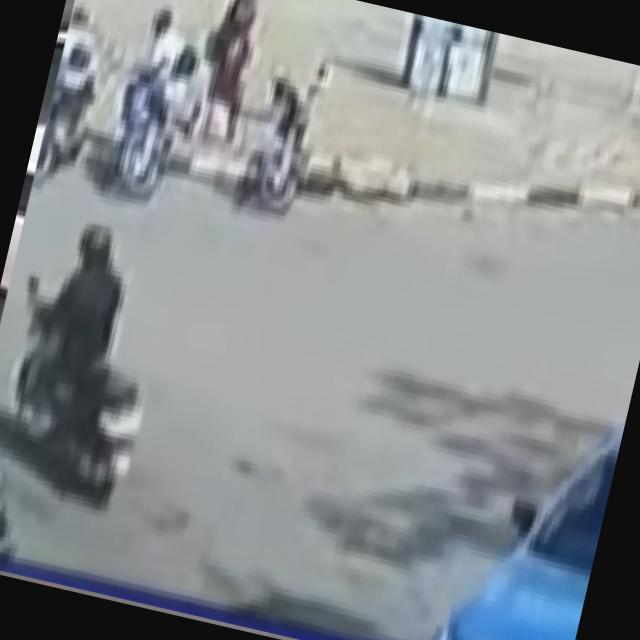person: (9, 217, 136, 444)
